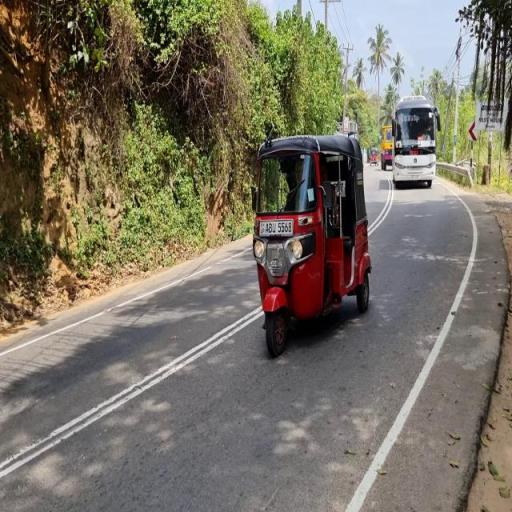double_white_line: (0, 308, 262, 481)
